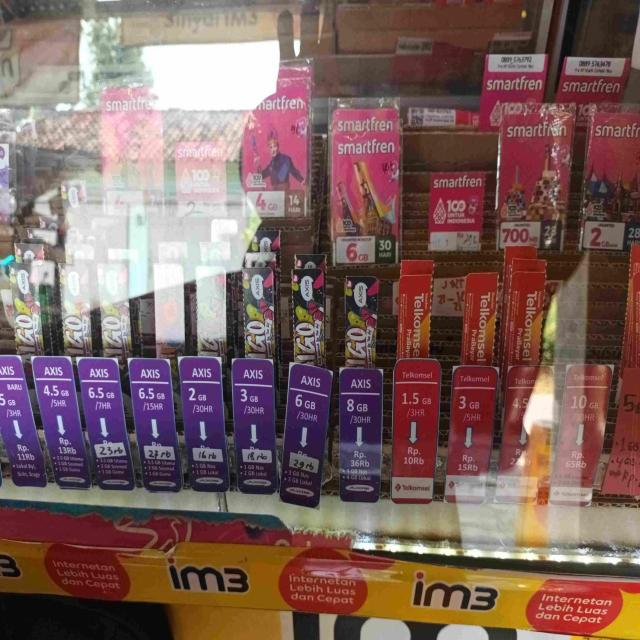Axis: (172, 353, 232, 490), (279, 363, 332, 503), (228, 350, 280, 490), (336, 366, 382, 500), (37, 354, 81, 487), (82, 354, 124, 488), (134, 357, 176, 483), (1, 358, 30, 498), (96, 257, 137, 352), (292, 255, 327, 359), (3, 256, 43, 346), (194, 263, 230, 354), (56, 261, 92, 351), (344, 274, 379, 361), (239, 264, 274, 350), (152, 260, 185, 347)
Telkomsel: (560, 362, 610, 500), (392, 356, 439, 502), (449, 360, 496, 500), (504, 371, 551, 501), (507, 243, 544, 368), (397, 259, 434, 357), (464, 269, 501, 364)
smartfren: (328, 98, 403, 266), (248, 63, 310, 209), (496, 106, 572, 218), (104, 86, 168, 192), (583, 100, 638, 222), (483, 45, 545, 126), (432, 171, 480, 249), (560, 46, 629, 100), (174, 138, 225, 202)
